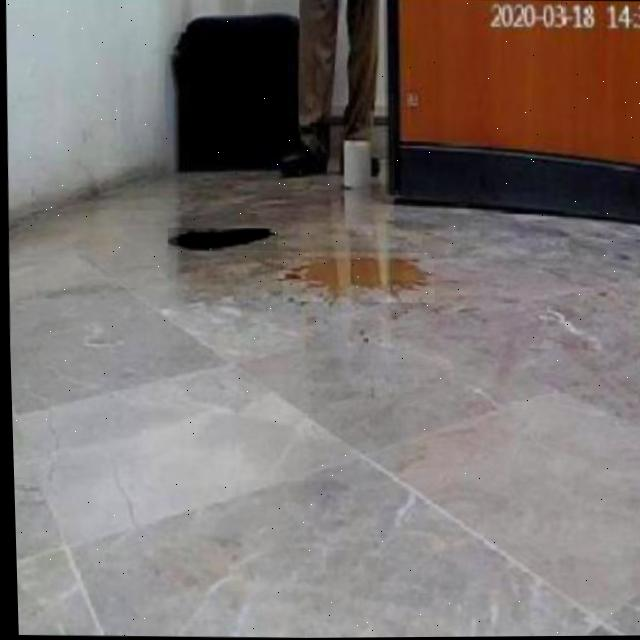spillage: (280, 252, 432, 303), (167, 229, 275, 250)
